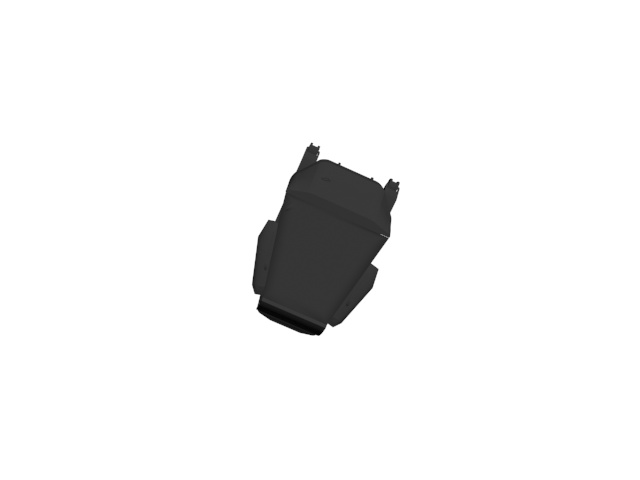back_pack: (249, 137, 400, 338)
